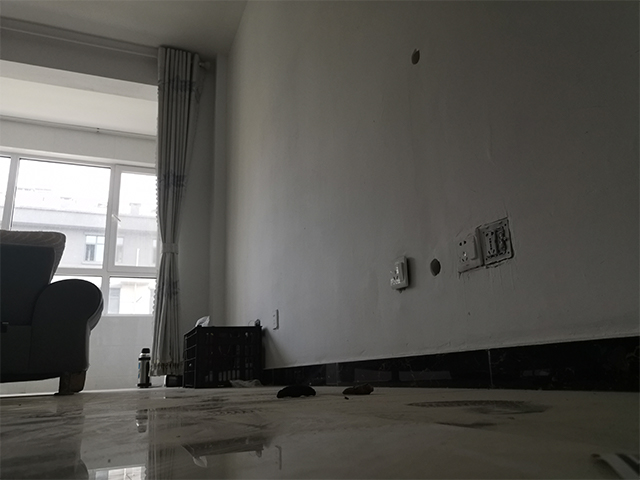curtain: (147, 44, 200, 378)
feces: (274, 384, 317, 399), (341, 381, 375, 396)
sofa: (1, 228, 106, 397)
